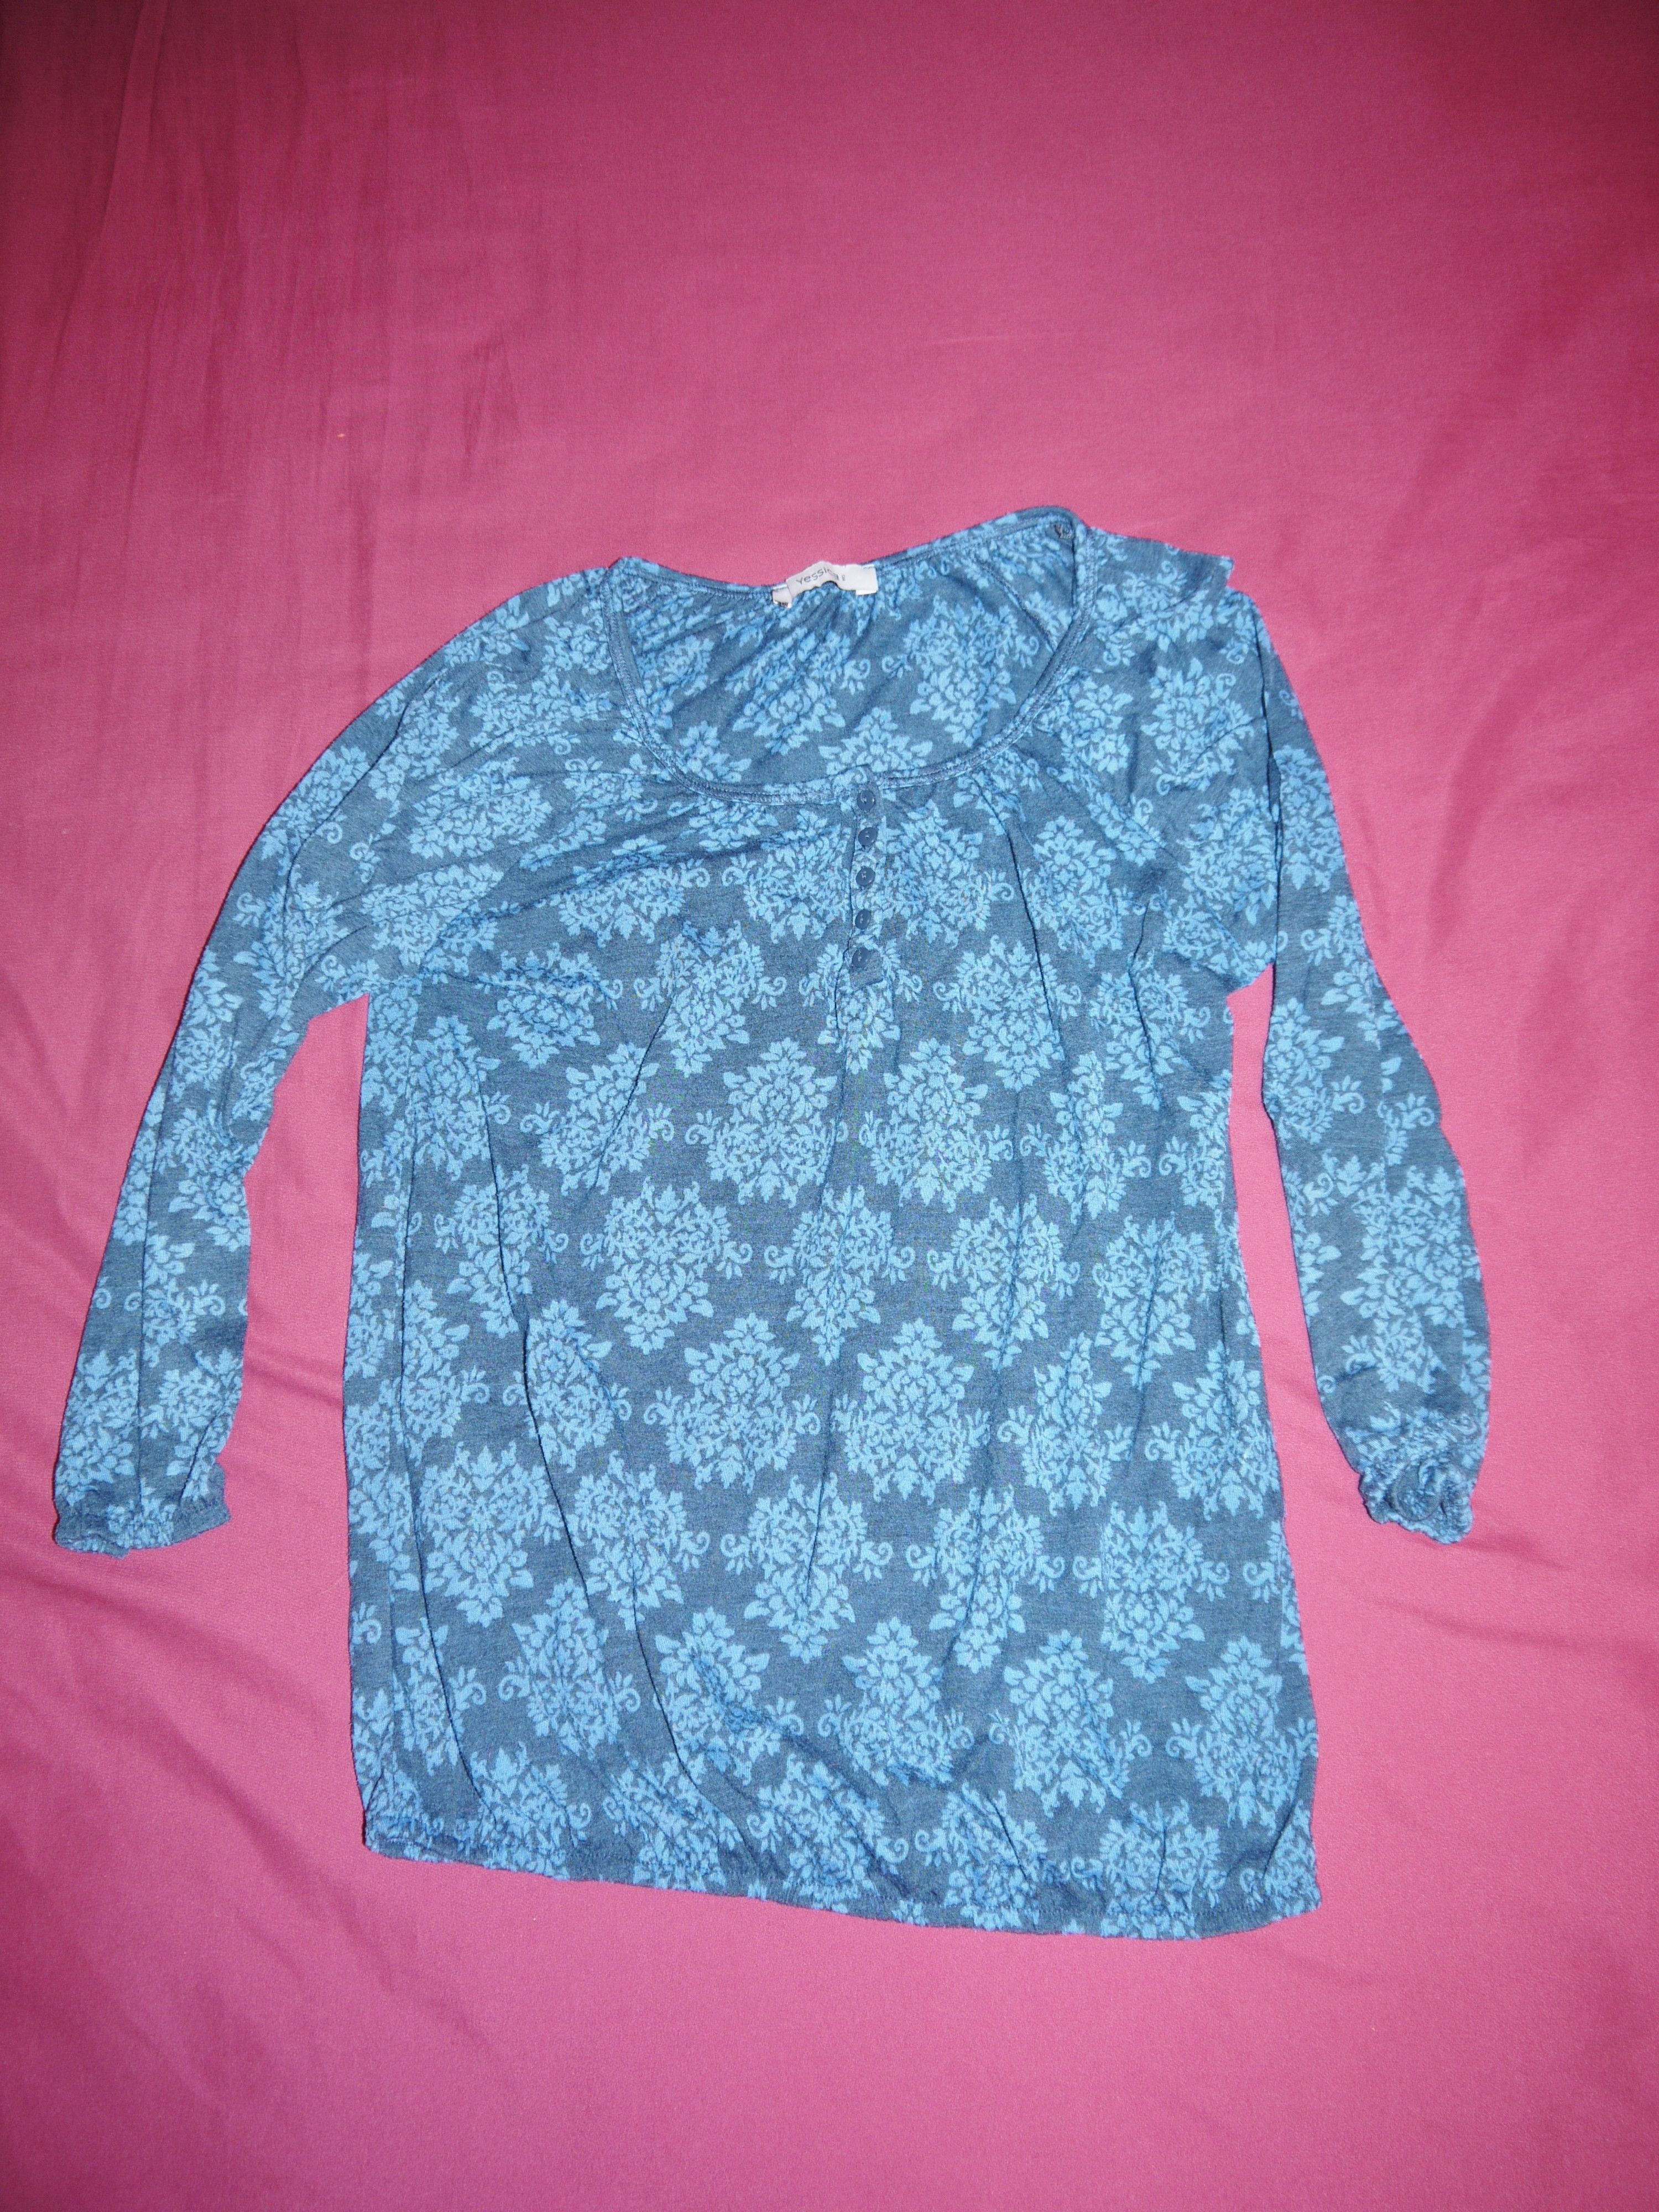clothes: (42, 521, 1516, 1972)
